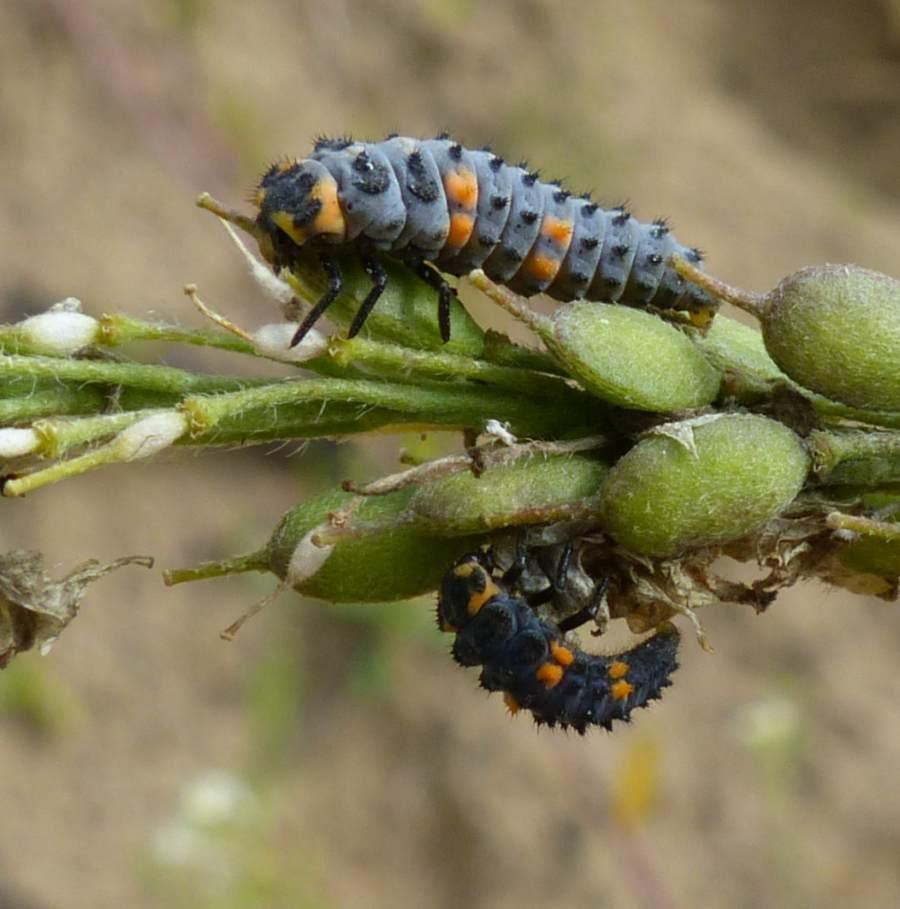ladybug: (244, 129, 731, 351), (431, 544, 689, 741)
